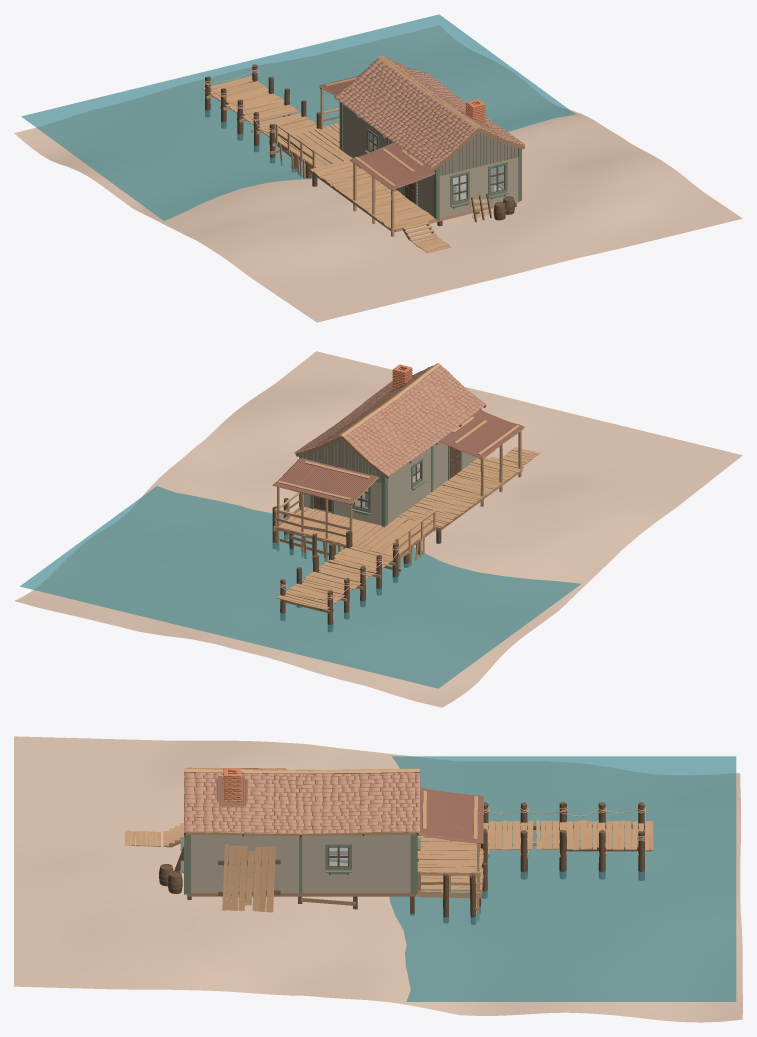
Rendered from fishermans_shack__detailed_draft-86f7cda4.glb.
The picture shows the model from 3 angles, top to bottom: view 1: azimuth 30°, elevation 25°; view 2: azimuth 150°, elevation 25°; view 3: azimuth 270°, elevation 25°; orthographic projection. The views are drawn at different scales.
Visible parts, largest first — view 1: Plane.004_68, Plane.011_31, Plane.420_0, Cube.160_113, Cube.235_143, Plane.000_1, Cube.161_114, Cube.163_116, Cylinder.017_163, Cylinder.021_167, Cube.002_33; view 2: Plane.004_68, Plane.011_31, Plane.420_0, Cube.161_114, Plane.000_1, Cube.239_144, Cube.156_109, Cube.163_116, Cylinder.022_168, Cylinder.026_172, Cylinder.021_167, Cube.009_40; view 3: Plane.004_68, Plane.011_31, Plane.000_1, Cube.154_107, Cube.152_105, Cylinder.026_172, Cube.343_175, Cylinder.022_168, Cylinder.024_170, Cube.411_29, Cube.390_335, Cube.395_340.
Boxes of the visible parts, left/top/right/bottom form: Plane.004_68: left=14, top=25, right=742, bottom=322; Plane.011_31: left=21, top=14, right=575, bottom=220; Plane.420_0: left=334, top=58, right=476, bottom=167; Cube.160_113: left=439, top=157, right=518, bottom=218; Cube.235_143: left=439, top=132, right=518, bottom=175; Plane.000_1: left=385, top=57, right=525, bottom=144; Cube.161_114: left=341, top=104, right=386, bottom=158; Cube.163_116: left=389, top=139, right=433, bottom=216; Cylinder.017_163: left=376, top=161, right=431, bottom=188; Cylinder.021_167: left=349, top=142, right=404, bottom=168; Cube.002_33: left=353, top=163, right=394, bottom=236; Plane.004_68: left=14, top=351, right=742, bottom=707; Plane.011_31: left=20, top=486, right=580, bottom=688; Plane.420_0: left=343, top=366, right=486, bottom=475; Cube.161_114: left=385, top=447, right=431, bottom=526; Plane.000_1: left=294, top=365, right=433, bottom=453; Cube.239_144: left=303, top=440, right=381, bottom=482; Cube.156_109: left=304, top=482, right=381, bottom=525; Cube.163_116: left=433, top=441, right=477, bottom=490; Cylinder.022_168: left=320, top=469, right=367, bottom=501; Cylinder.026_172: left=272, top=458, right=318, bottom=490; Cylinder.021_167: left=439, top=432, right=495, bottom=458; Cube.009_40: left=277, top=487, right=352, bottom=561; Plane.004_68: left=14, top=736, right=742, bottom=1022; Plane.011_31: left=389, top=756, right=736, bottom=1001; Plane.000_1: left=184, top=772, right=420, bottom=833; Cube.154_107: left=302, top=833, right=410, bottom=893; Cube.152_105: left=191, top=833, right=298, bottom=893; Cylinder.026_172: left=419, top=821, right=483, bottom=843; Cube.343_175: left=184, top=771, right=419, bottom=834; Cylinder.022_168: left=420, top=793, right=483, bottom=814; Cylinder.024_170: left=420, top=811, right=483, bottom=830; Cube.411_29: left=223, top=768, right=241, bottom=801; Cube.390_335: left=266, top=846, right=275, bottom=912; Cube.395_340: left=230, top=845, right=241, bottom=910.
Bounding box in the file's own units: 15.61 × 4.36 × 19.09.
